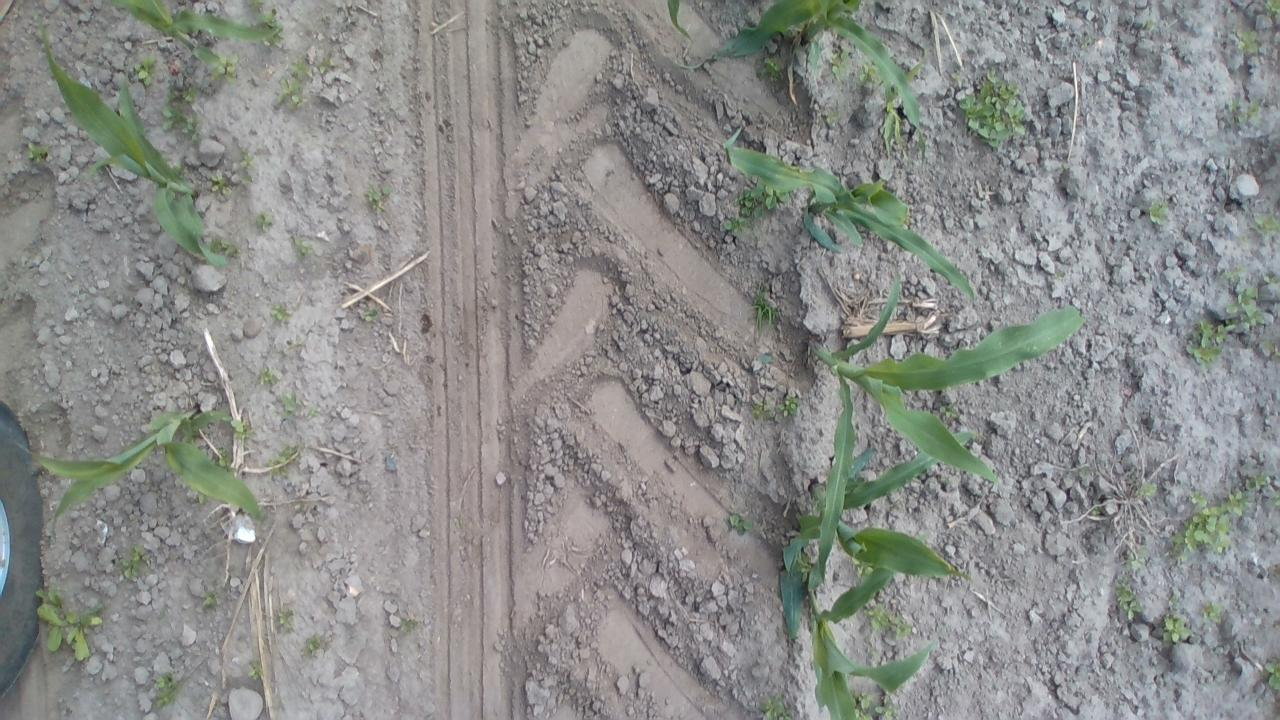Maize: (810, 268, 1088, 587), (35, 16, 229, 266), (674, 0, 930, 170), (723, 126, 975, 298), (15, 400, 266, 538), (782, 430, 974, 592), (780, 560, 936, 720), (106, 0, 281, 75), (666, 0, 692, 41)
Weeds: (1166, 469, 1268, 561), (1182, 284, 1266, 372), (954, 64, 1026, 148), (34, 584, 108, 664), (274, 56, 312, 114), (862, 604, 912, 642), (748, 278, 778, 332), (738, 185, 788, 217), (266, 442, 308, 478), (162, 104, 200, 142), (1115, 576, 1142, 620), (150, 672, 182, 708), (118, 540, 147, 579), (258, 8, 286, 46), (209, 50, 242, 82), (1160, 614, 1192, 644), (1247, 209, 1280, 237), (759, 692, 793, 719), (365, 182, 394, 212), (275, 389, 302, 420), (754, 56, 786, 82), (723, 511, 754, 536), (134, 54, 157, 86), (828, 48, 851, 80), (1146, 195, 1168, 227), (1234, 29, 1260, 55), (776, 395, 801, 422), (228, 416, 255, 440), (299, 632, 322, 658), (26, 140, 50, 164), (168, 85, 200, 103), (873, 696, 898, 719), (207, 238, 239, 255), (1263, 660, 1280, 692), (854, 690, 872, 720), (1122, 546, 1146, 568), (720, 214, 749, 232), (258, 364, 280, 386), (1202, 600, 1224, 622), (267, 302, 291, 322), (252, 211, 274, 231), (246, 0, 270, 18), (210, 174, 230, 195), (277, 610, 296, 632), (1221, 264, 1244, 282), (859, 61, 877, 84), (752, 402, 772, 422), (294, 234, 310, 258), (1188, 490, 1208, 508), (1260, 340, 1280, 358), (1136, 16, 1160, 31), (215, 446, 232, 467), (1135, 482, 1157, 498), (399, 617, 418, 635), (320, 56, 338, 75), (238, 146, 252, 168), (358, 306, 377, 322), (939, 404, 960, 418), (824, 109, 841, 126), (1264, 0, 1280, 18), (1248, 100, 1261, 121), (201, 590, 217, 606), (247, 666, 262, 680), (1263, 274, 1280, 286), (759, 352, 776, 364), (1078, 36, 1091, 50), (951, 70, 964, 84), (800, 562, 810, 580), (1228, 114, 1246, 124), (1168, 594, 1178, 608), (1230, 98, 1240, 112), (1055, 268, 1067, 279), (453, 516, 462, 530), (1091, 506, 1102, 516), (1236, 235, 1247, 245), (310, 408, 320, 418), (242, 176, 252, 186), (1274, 491, 1280, 506), (294, 504, 302, 509)
